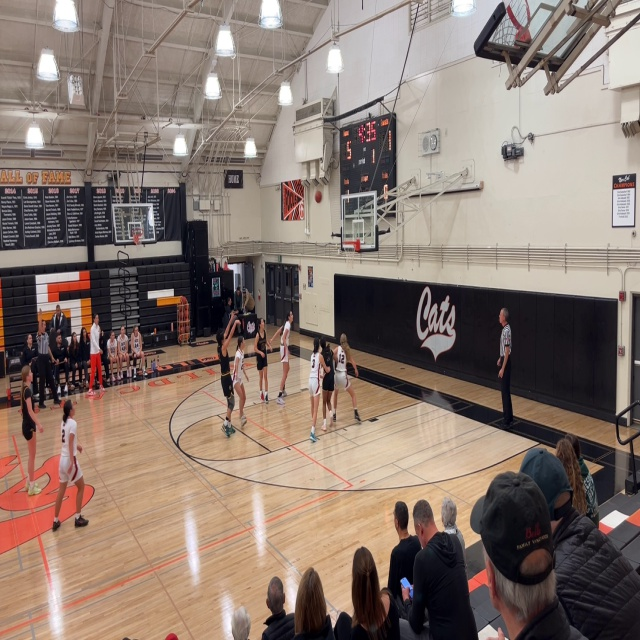Basketball: (314, 191, 322, 203)
